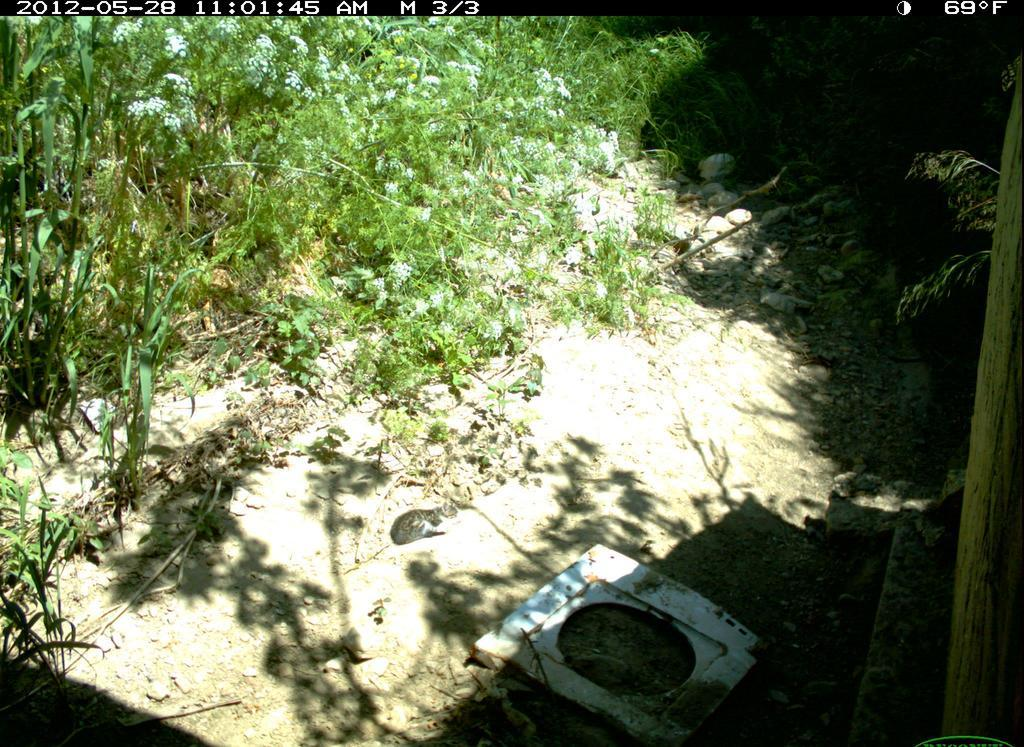cat: (381, 496, 465, 548)
